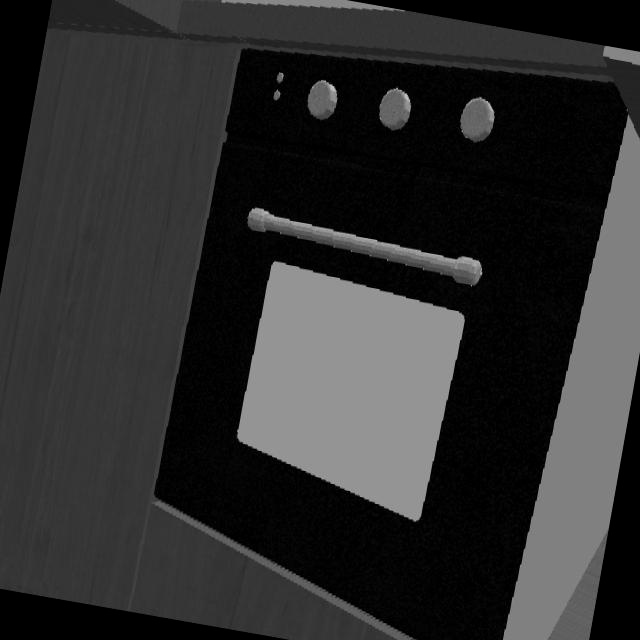oven: (151, 49, 626, 640)
